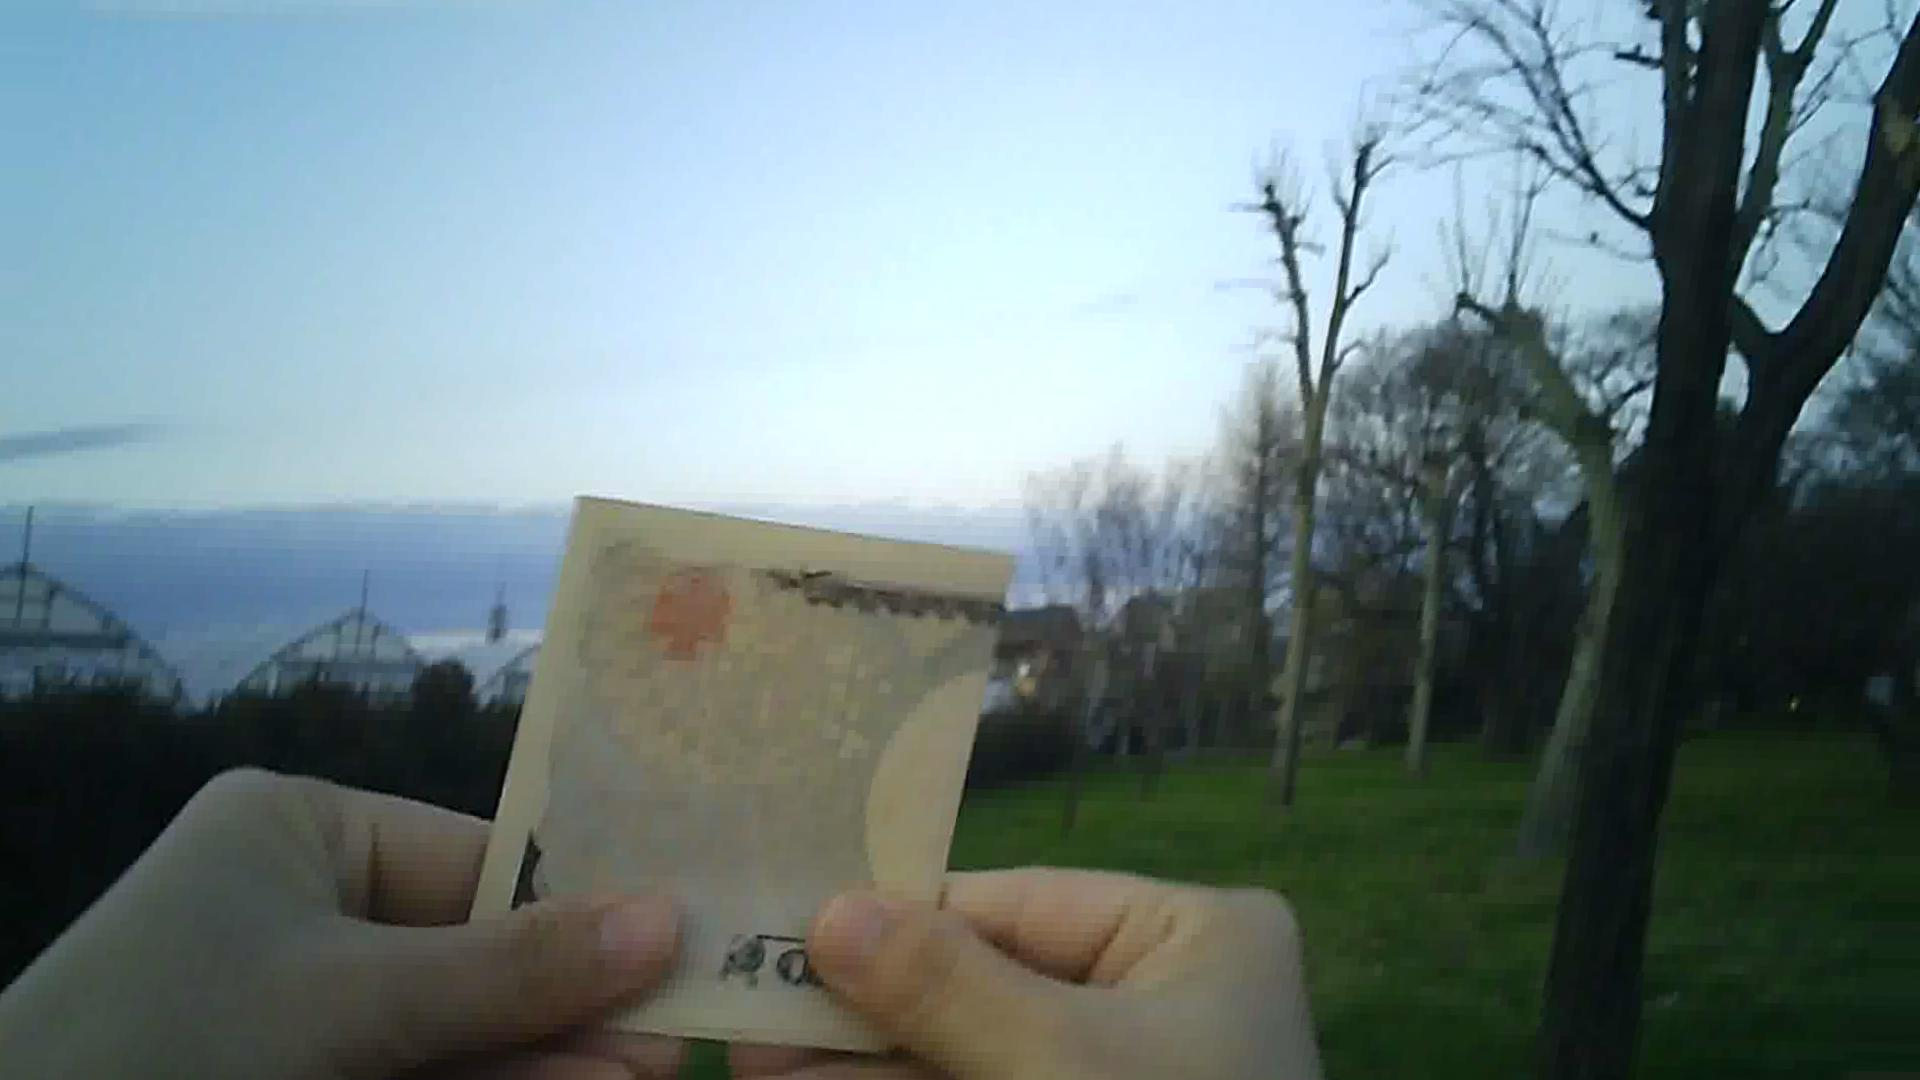10,000 Yen: (454, 475, 1005, 1062)
